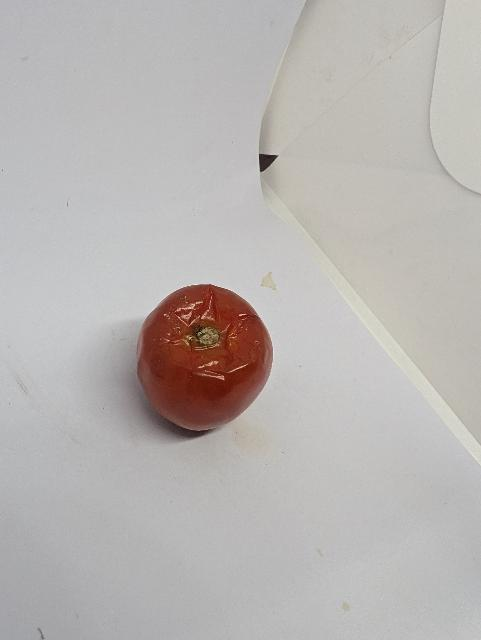defect: (135, 280, 277, 438)
